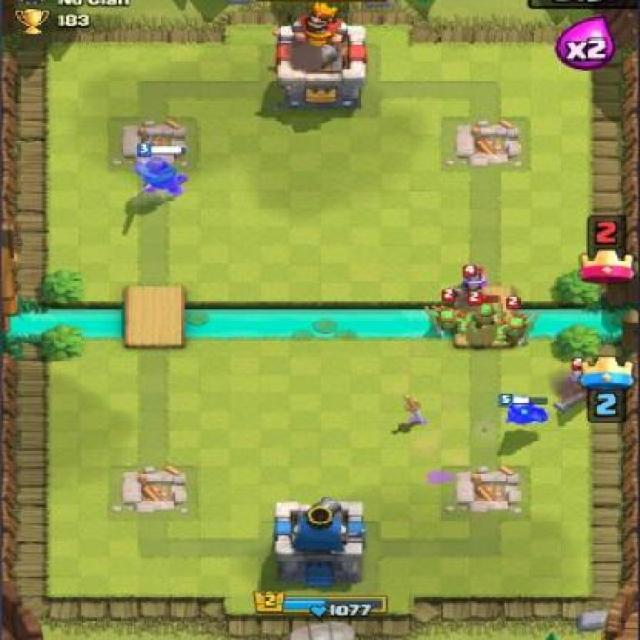Enemy-Musketeer: (552, 356, 596, 415), (452, 264, 494, 310)
Enemy-SpearGoblin: (495, 295, 534, 351), (427, 288, 471, 337), (461, 292, 508, 332)
Player-Knight: (130, 141, 193, 199)
Player-MiniPEKKA: (499, 394, 552, 429)
